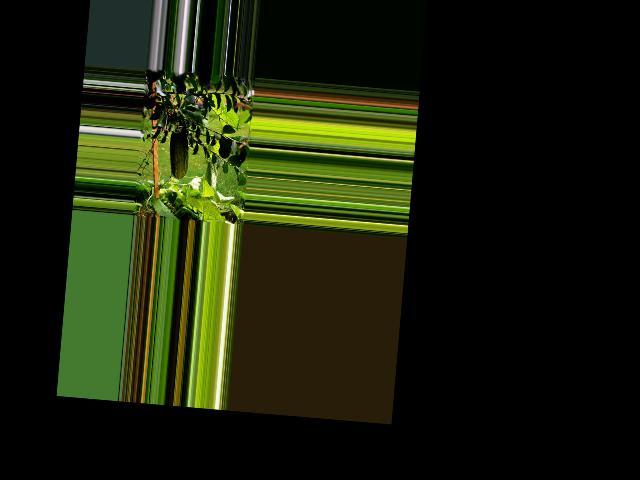cucumber: (166, 125, 190, 179)
